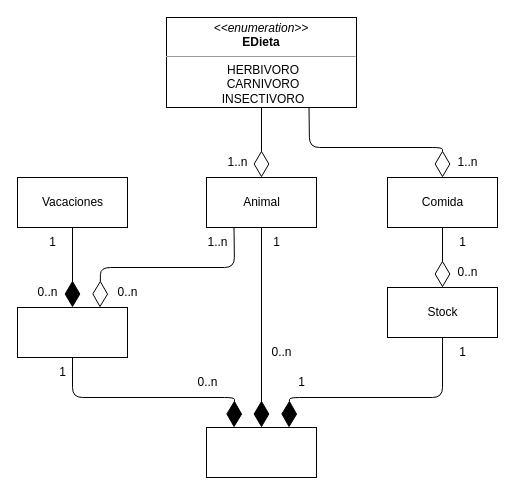
Image size: 515x495. Some labels were removed from this diagram. Here are the shapes that lost their labels. From the top down, the centre of each, then its label:
At point (72, 332): "Cuidador".
At point (261, 452): "Zoo".
